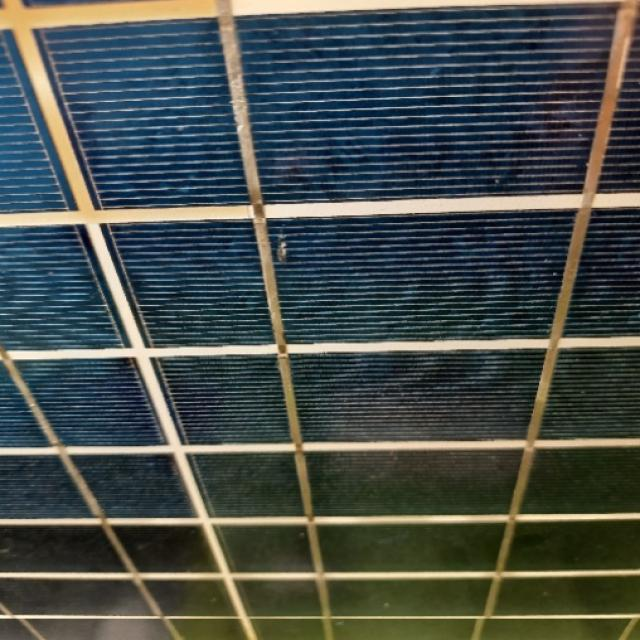Clean: (0, 0, 640, 619)
